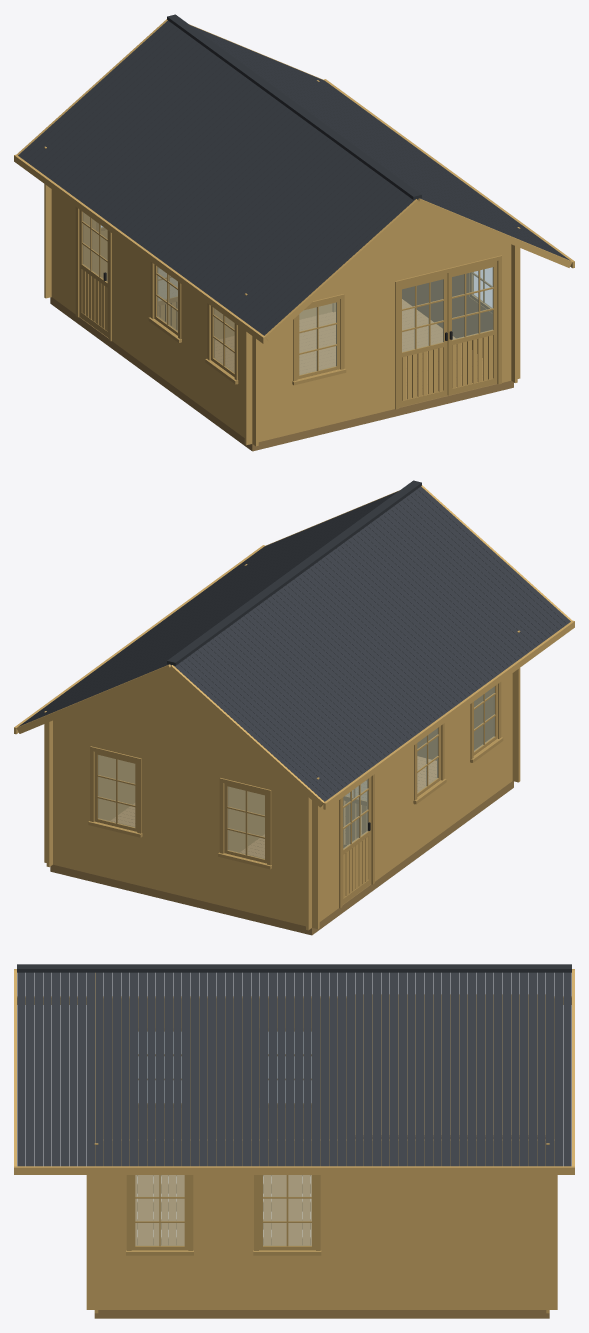
The model's file is сильвестр_4_5_6_44_мм_мезонин.glb.
3 renders of one model, top to bottom at view 1: azimuth 30°, elevation 25°; view 2: azimuth 150°, elevation 25°; view 3: azimuth 270°, elevation 25°, orthographic. The views are drawn at different scales.
Parts seen in each view (by area): view 1: roof, walls, floor, Сильвестр 4,5×6 (44 мм, мезонин), object 77, object 59, object 91, object 112, object 137, object 125, object 84, object 85 (+3 smaller); view 2: roof, walls, Сильвестр 4,5×6 (44 мм, мезонин), object 149, object 161, floor, object 112, object 125, object 137; view 3: roof, walls, floor, Сильвестр 4,5×6 (44 мм, мезонин), slab, object 173, object 185, object 177, object 178.
Boxes of the visible parts, bbox=[...] form: roof: bbox=[14, 14, 574, 343]; walls: bbox=[44, 80, 520, 446]; floor: bbox=[158, 269, 482, 398]; Сильвестр 4,5×6 (44 мм, мезонин): bbox=[50, 297, 513, 451]; object 77: bbox=[452, 267, 492, 339]; object 59: bbox=[402, 279, 443, 351]; object 91: bbox=[299, 303, 336, 374]; object 112: bbox=[83, 212, 107, 281]; object 137: bbox=[157, 266, 177, 331]; object 125: bbox=[214, 308, 234, 372]; object 84: bbox=[395, 280, 399, 409]; object 85: bbox=[497, 255, 501, 384]; roof: bbox=[14, 480, 574, 809]; walls: bbox=[44, 564, 520, 930]; Сильвестр 4,5×6 (44 мм, мезонин): bbox=[50, 781, 513, 935]; object 149: bbox=[228, 786, 264, 858]; object 161: bbox=[98, 755, 134, 827]; floor: bbox=[111, 756, 436, 858]; object 112: bbox=[343, 779, 367, 848]; object 125: bbox=[474, 686, 494, 751]; object 137: bbox=[417, 728, 437, 792]; roof: bbox=[14, 964, 574, 1174]; walls: bbox=[86, 973, 557, 1313]; floor: bbox=[135, 1175, 311, 1245]; Сильвестр 4,5×6 (44 мм, мезонин): bbox=[94, 1175, 549, 1318]; slab: bbox=[355, 994, 545, 1138]; object 173: bbox=[135, 1175, 184, 1245]; object 185: bbox=[263, 1175, 311, 1245]; object 177: bbox=[126, 1175, 131, 1250]; object 178: bbox=[188, 1175, 193, 1250].
Size of the model in its own units: 5.12 by 3.91 by 7.09.
